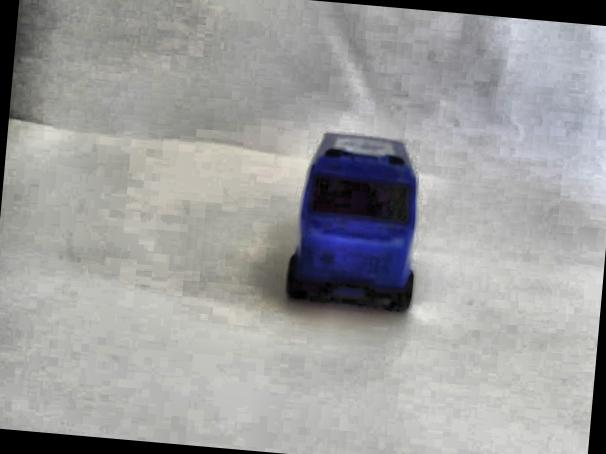police car: (274, 125, 438, 325)
